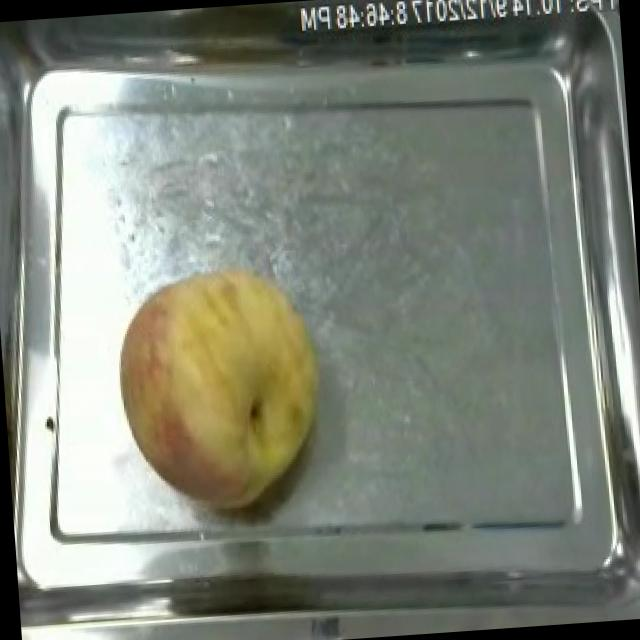Fruit: (100, 253, 341, 518)
